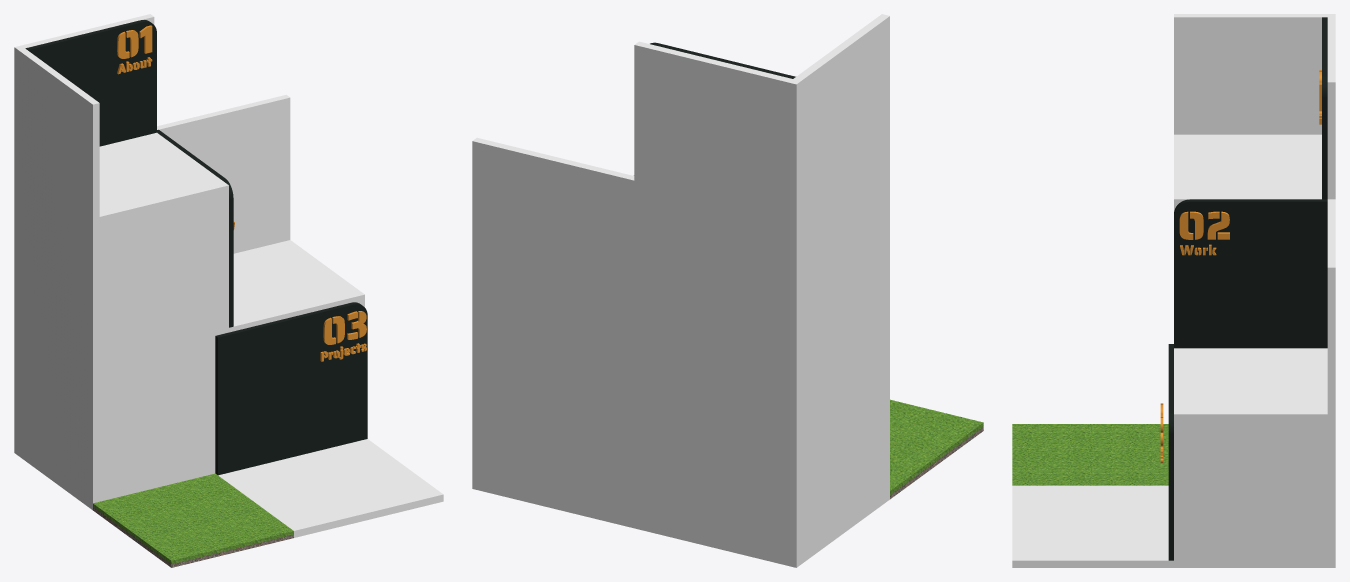
File: maxtower_base.dae
3 views of the same model, side by side, from view 1: azimuth 30°, elevation 25°; view 2: azimuth 150°, elevation 25°; view 3: azimuth 270°, elevation 25° (orthographic). The views are drawn at different scales.
Parts seen in each view (by area): view 1: group_0, group_5, group_8, group_7, group_6, instance_4, group_9, instance_0; view 2: group_0, group_8; view 3: group_0, group_6, group_8, group_5, group_7, instance_2.
Boxes of the visible parts, x1,y1,x2,y2 form: group_0: (14,14,443,537); group_5: (215,302,367,475); group_8: (93,473,293,564); group_7: (25,20,156,146); group_6: (157,129,233,327); instance_4: (323,311,366,344); group_9: (93,507,293,567); instance_0: (117,25,152,58); group_0: (472,14,889,567); group_8: (890,399,983,494); group_0: (1012,14,1335,567); group_6: (1174,199,1327,348); group_8: (1012,424,1168,485); group_5: (1168,344,1173,560); group_7: (1322,17,1327,199); instance_2: (1179,211,1229,239).
Size of the model in its own units: 240 by 240 by 342.
Materials: 6 (3 with a texture image).
